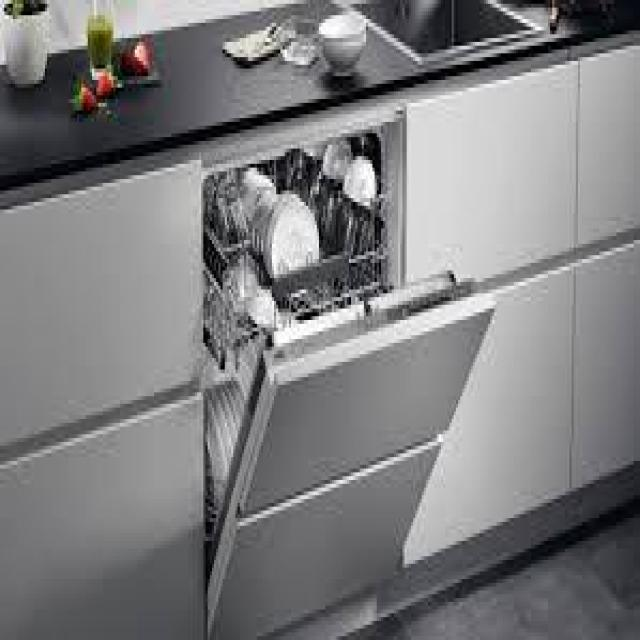dishwasher: (195, 99, 503, 640)
